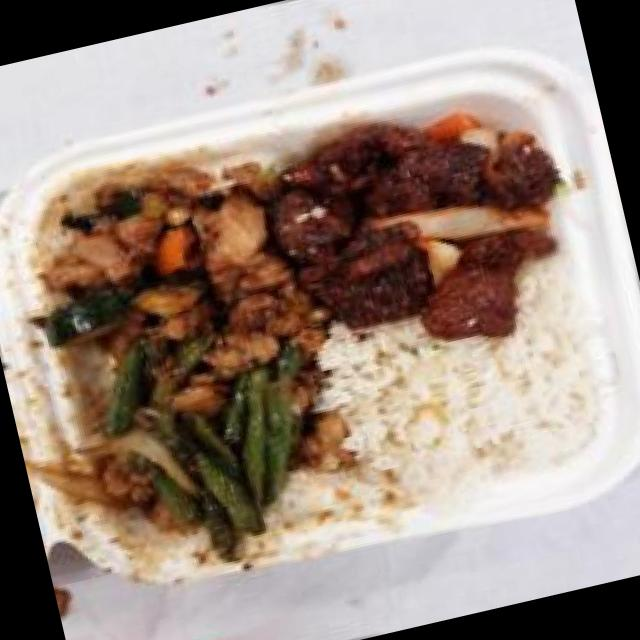Beijing Beef: (258, 76, 590, 383)
Kung Pao Chicken: (17, 128, 316, 390)
String Bean Chicken Breast: (58, 308, 346, 590)
White Steamed Rice: (322, 304, 616, 524)
